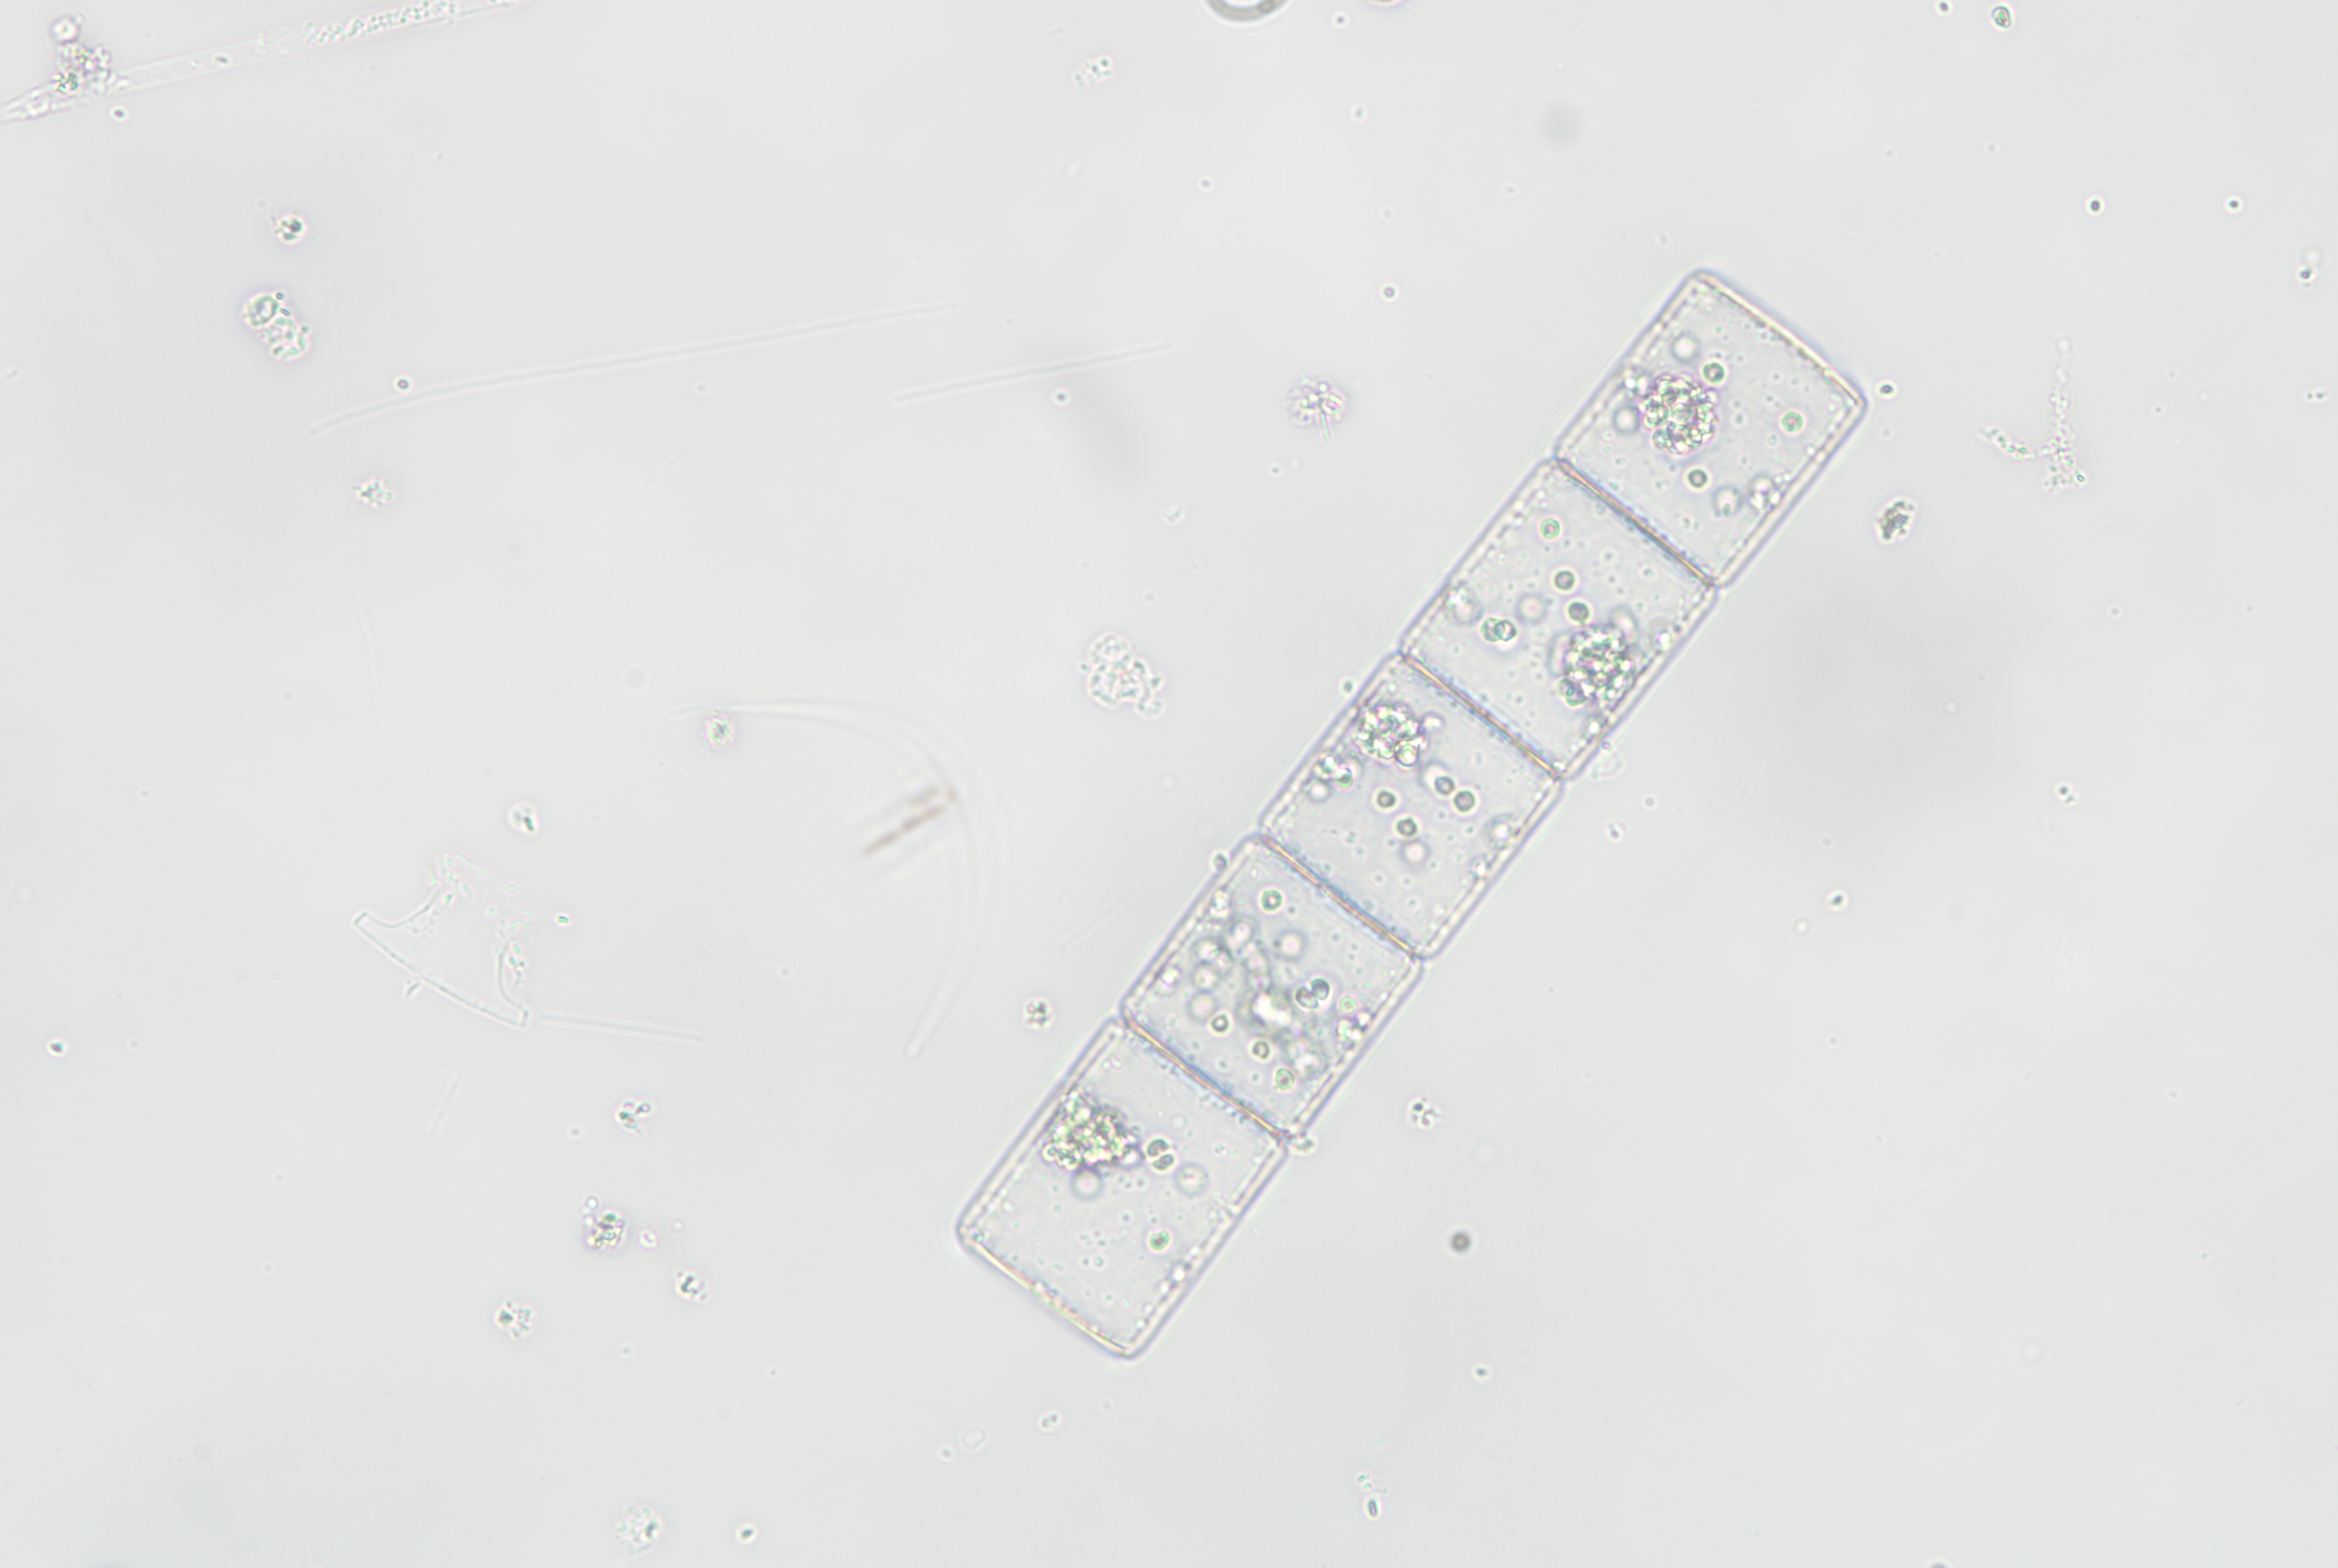guinardia flaccida: (933, 243, 1904, 1402)
